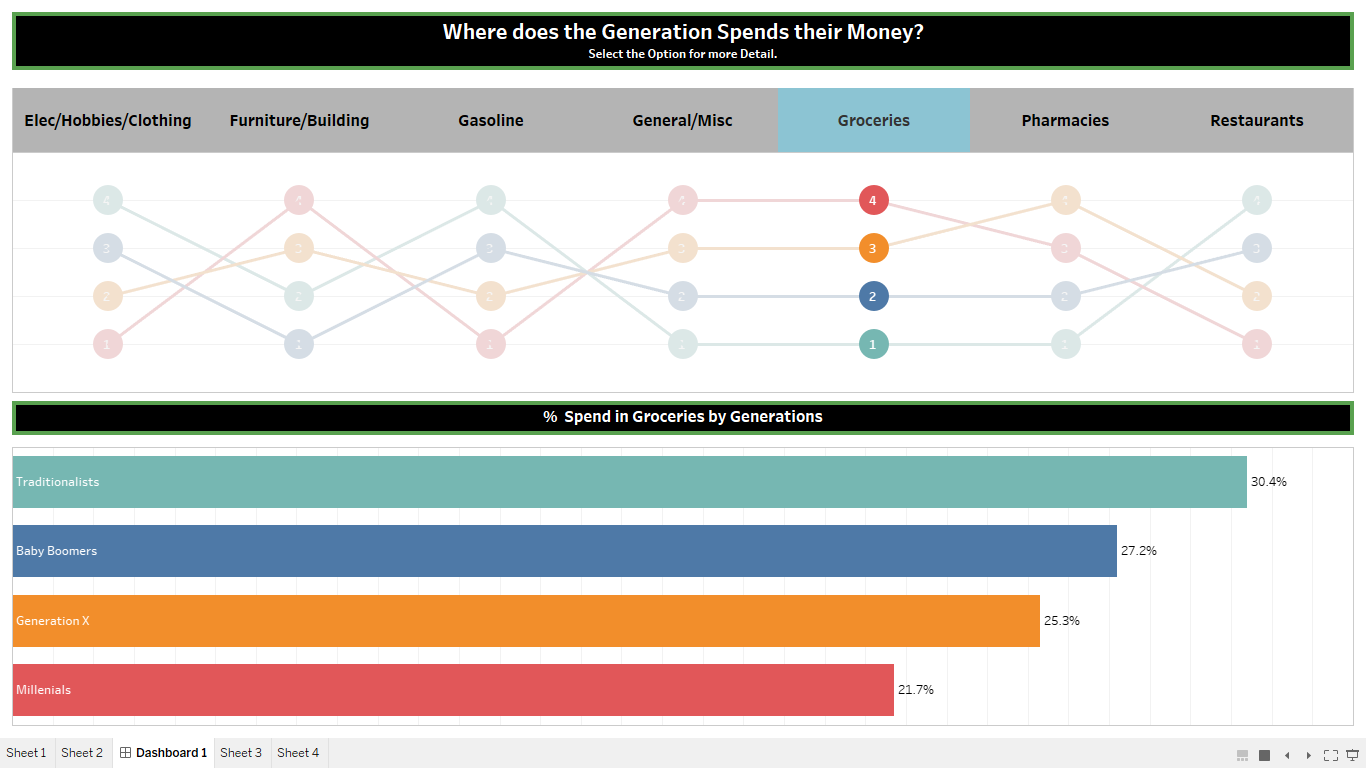

What the dashboard file says about the page in this screenshot:
{"tool":"tableau","page":{"name":"Dashboard 1","canvas":[1000,1000],"units":"permille","ordinal":0},"visuals":[{"type":"worksheet","title":"Sheet 3","mark":"Automatic","box":[6.9,13.3,986.1,102.9]},{"type":"worksheet","title":"Sheet 1","mark":"Line","cols":["Category"],"box":[6.9,116.2,986.1,421.9]},{"type":"worksheet","title":"Sheet 4","mark":"Automatic","box":[6.9,538.1,986.1,61.5]},{"type":"worksheet","title":"Sheet 2","mark":"Bar","rows":["Category","Generation"],"cols":["% of Spending","% of Spending"],"box":[6.9,599.5,986.1,387.2]}]}

Visuals, with their boxes on the dashboard's canvas, which has no fixed pixel size, in thousandths of its width and height (x1, y1, x2, y2). These are canvas units, not pixel positions in the 1366x768 screenshot, which may show the page scaled, cropped or inside an application window:
"Sheet 3" worksheet: 7 13 993 116
"Sheet 1" worksheet (Line marks): 7 116 993 538
"Sheet 4" worksheet: 7 538 993 600
"Sheet 2" worksheet (Bar marks): 7 600 993 987
